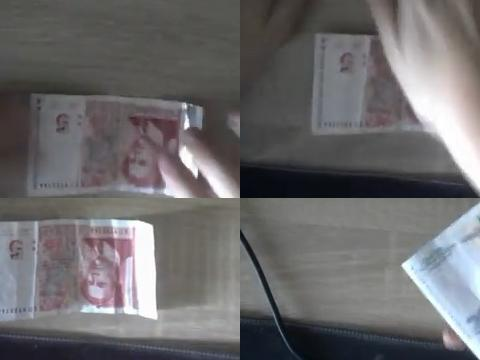20leva: (402, 201, 480, 359)
5leva: (26, 93, 202, 197), (307, 32, 425, 136), (36, 218, 93, 312)
